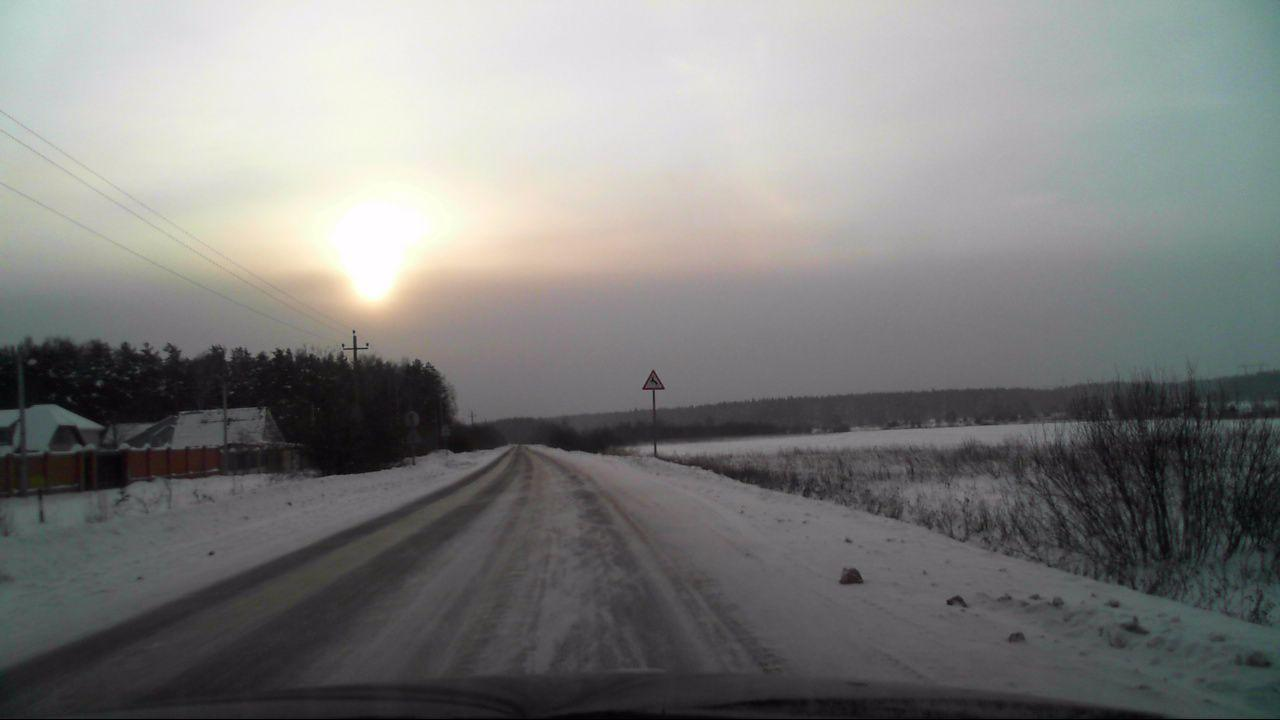1_27: (642, 368, 664, 390)
